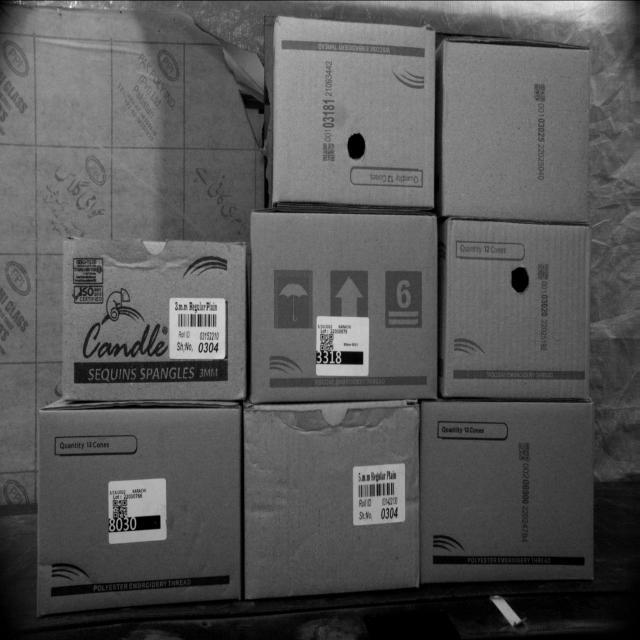box: (36, 407, 246, 615), (251, 208, 438, 396), (248, 403, 420, 601), (270, 15, 437, 211), (422, 402, 594, 584), (61, 235, 248, 401), (444, 34, 588, 222), (444, 221, 594, 397)
